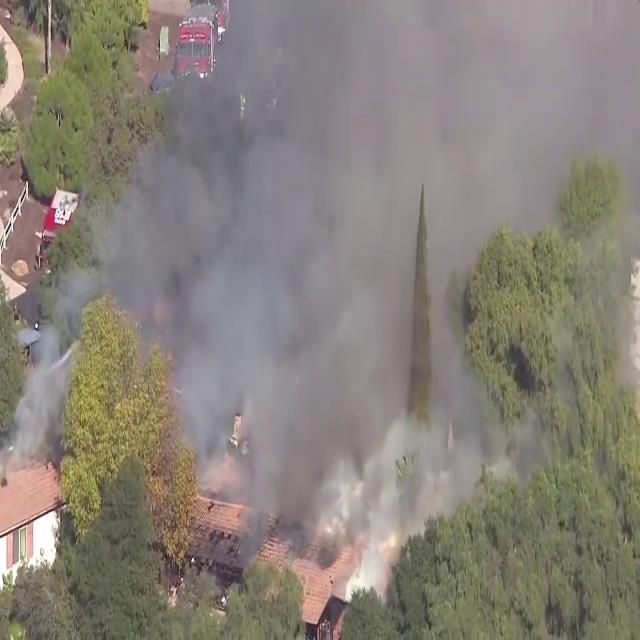Fire: (256, 526, 341, 628)
Smoke: (97, 3, 525, 561)
